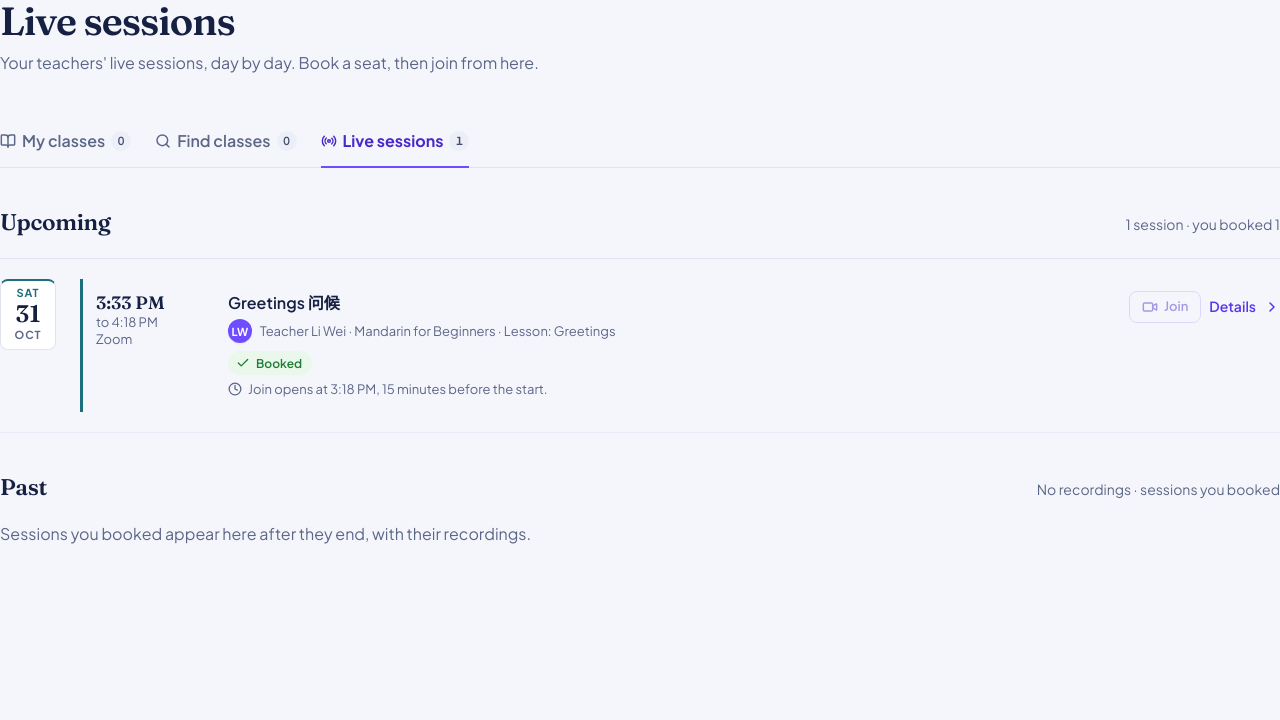
Test: StudentLiveSessionsPage › cancels a booking after the dialog says what happens
The width and height of the screenshot is (1280, 720).
Click the button "Details" at [1245, 307], box [1209,291,1279,323]
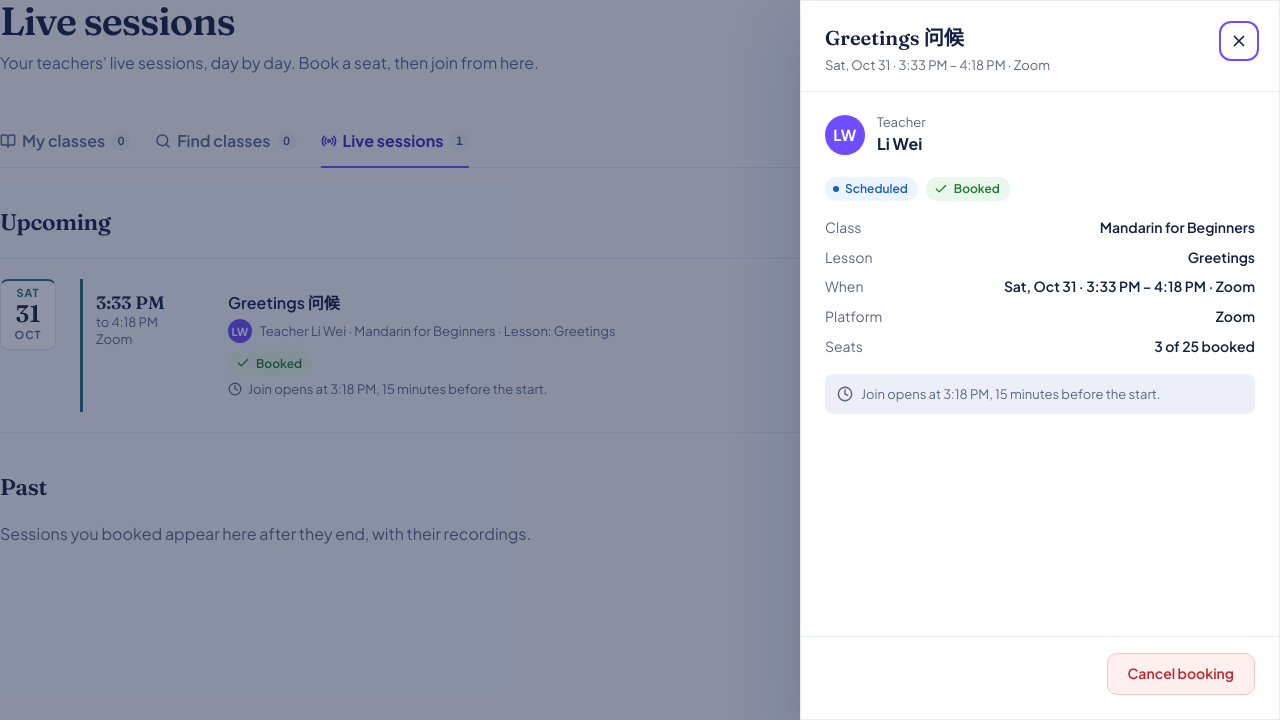
Click the button "Cancel booking" at [1181, 674], box [1107,653,1255,695]
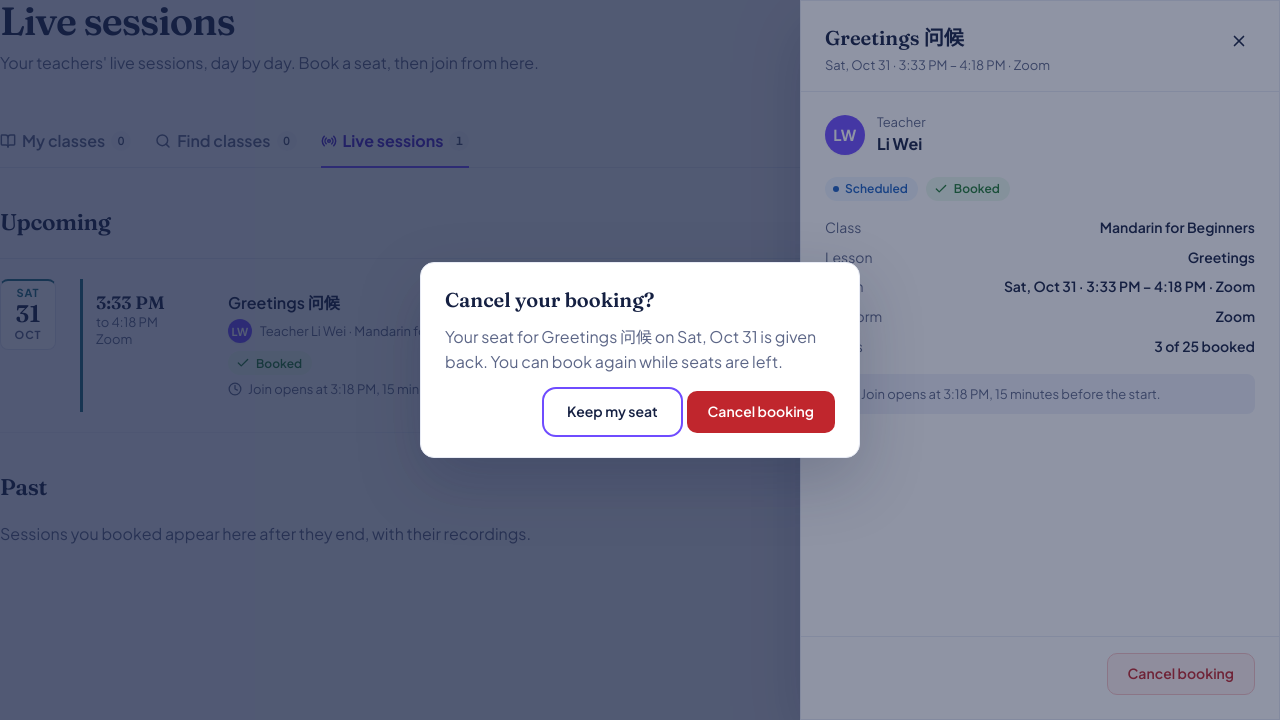
Result: the text "Your seat for Greetings 问候" is shown at [445,326,816,372]
Click the button with test id "confirm-dialog-confirm" at [761, 412], box [687,391,835,433]
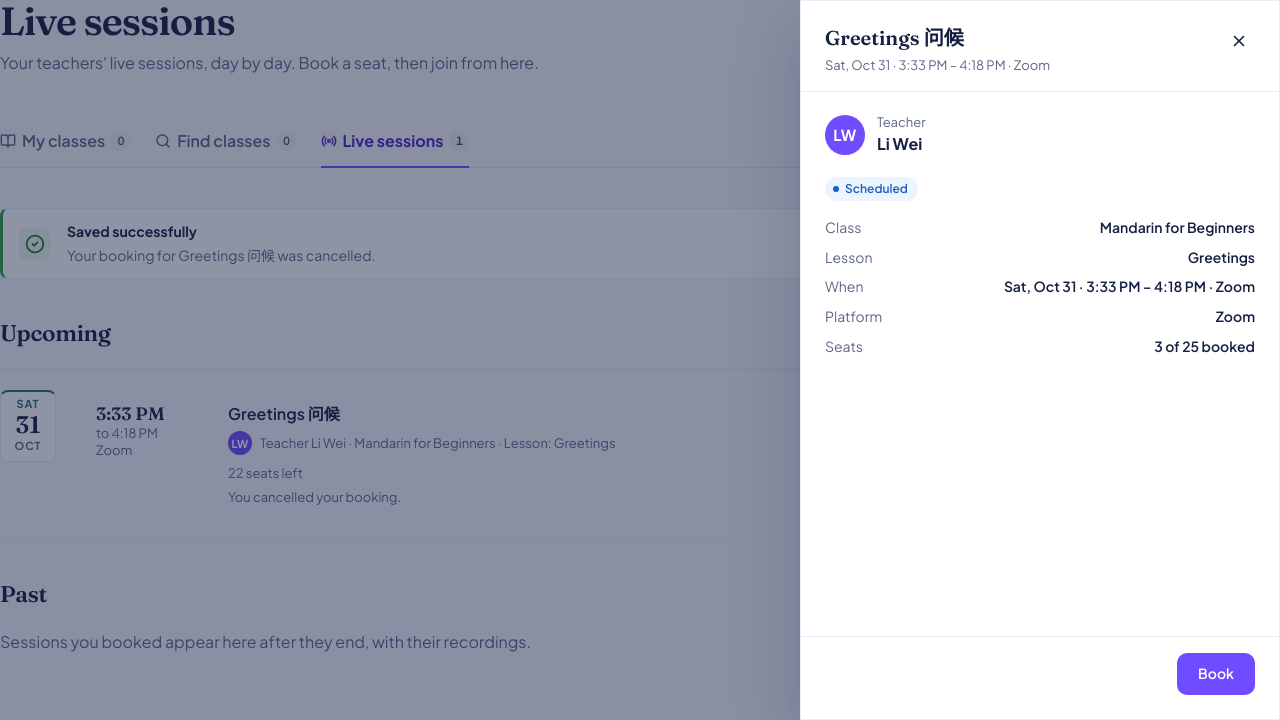
Result: the text "Your booking for Greetings 问候 was cancelled." is shown at [67,246,376,264]
